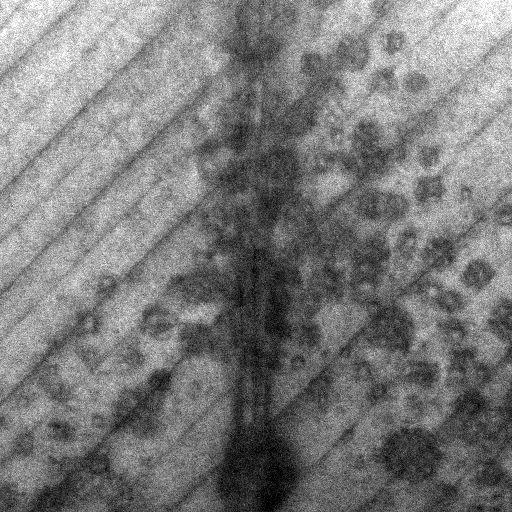y2o3: (264, 262, 344, 355), (330, 113, 410, 187), (439, 380, 511, 456), (368, 423, 443, 486), (290, 200, 361, 266), (51, 445, 118, 505), (175, 310, 243, 365), (346, 228, 391, 311), (199, 197, 257, 260), (107, 382, 168, 441), (193, 133, 252, 191), (360, 299, 417, 359), (249, 146, 304, 206), (163, 265, 241, 305), (311, 75, 353, 147), (91, 465, 155, 512), (341, 185, 410, 223), (443, 347, 492, 394), (281, 81, 318, 143), (33, 358, 74, 406), (134, 301, 179, 344), (418, 232, 458, 275), (466, 458, 511, 496), (304, 366, 337, 417), (332, 32, 372, 74), (456, 257, 496, 298), (248, 30, 287, 70), (482, 296, 512, 347), (398, 359, 441, 391), (400, 390, 433, 427), (366, 63, 400, 98), (411, 173, 448, 205), (407, 108, 438, 143), (120, 336, 146, 377), (394, 226, 419, 267), (46, 417, 79, 447), (399, 67, 431, 97), (436, 318, 467, 348), (74, 305, 103, 337), (298, 49, 328, 79), (412, 142, 441, 173), (144, 367, 173, 398), (381, 25, 409, 57), (362, 378, 391, 408), (437, 288, 466, 317), (95, 270, 121, 302), (351, 356, 376, 388), (490, 192, 512, 228), (10, 428, 36, 458), (421, 280, 445, 308), (0, 481, 22, 510), (310, 150, 333, 175), (468, 201, 488, 226), (337, 425, 358, 445), (13, 387, 31, 409), (0, 409, 16, 433), (289, 351, 307, 372), (351, 450, 367, 473), (90, 411, 107, 431), (337, 343, 354, 362), (458, 184, 475, 201)
